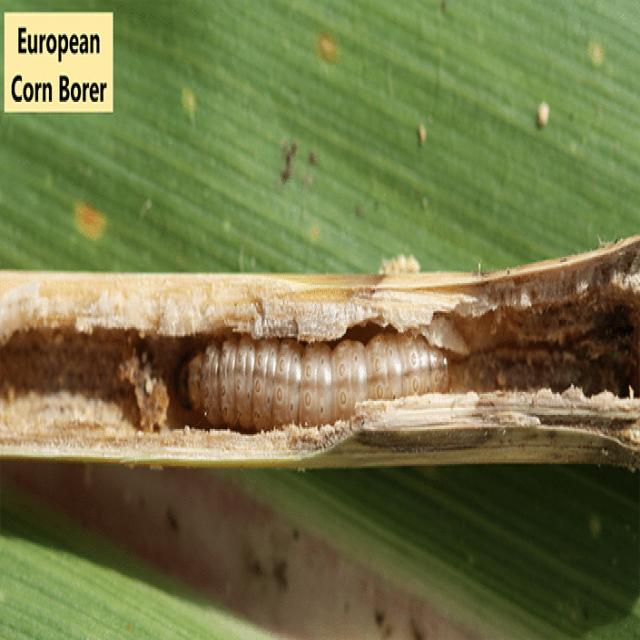cornborer-Larva-: (178, 307, 463, 447)
